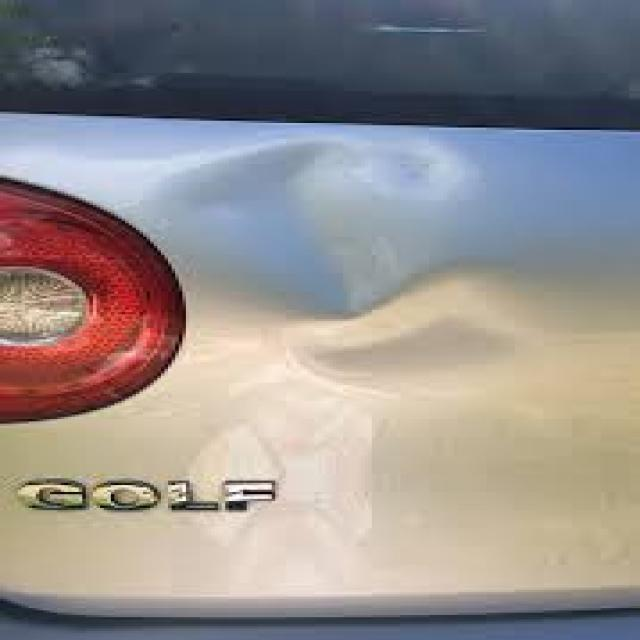minor: (121, 100, 534, 548)
